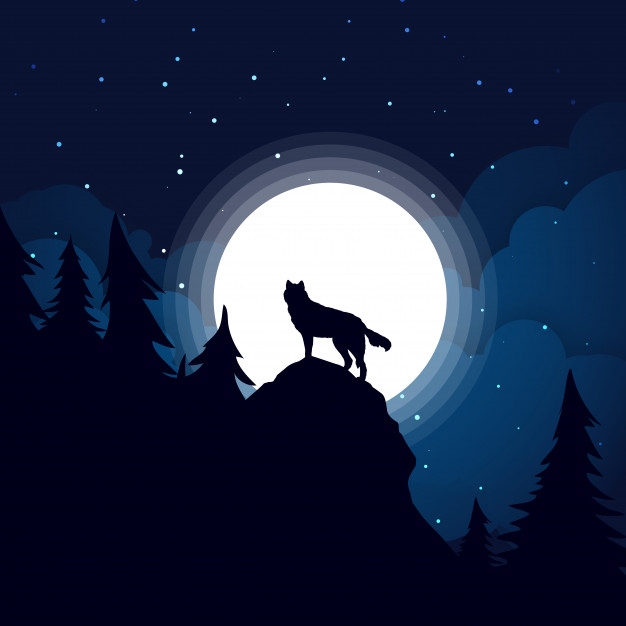Lobo: (261, 254, 403, 394)
